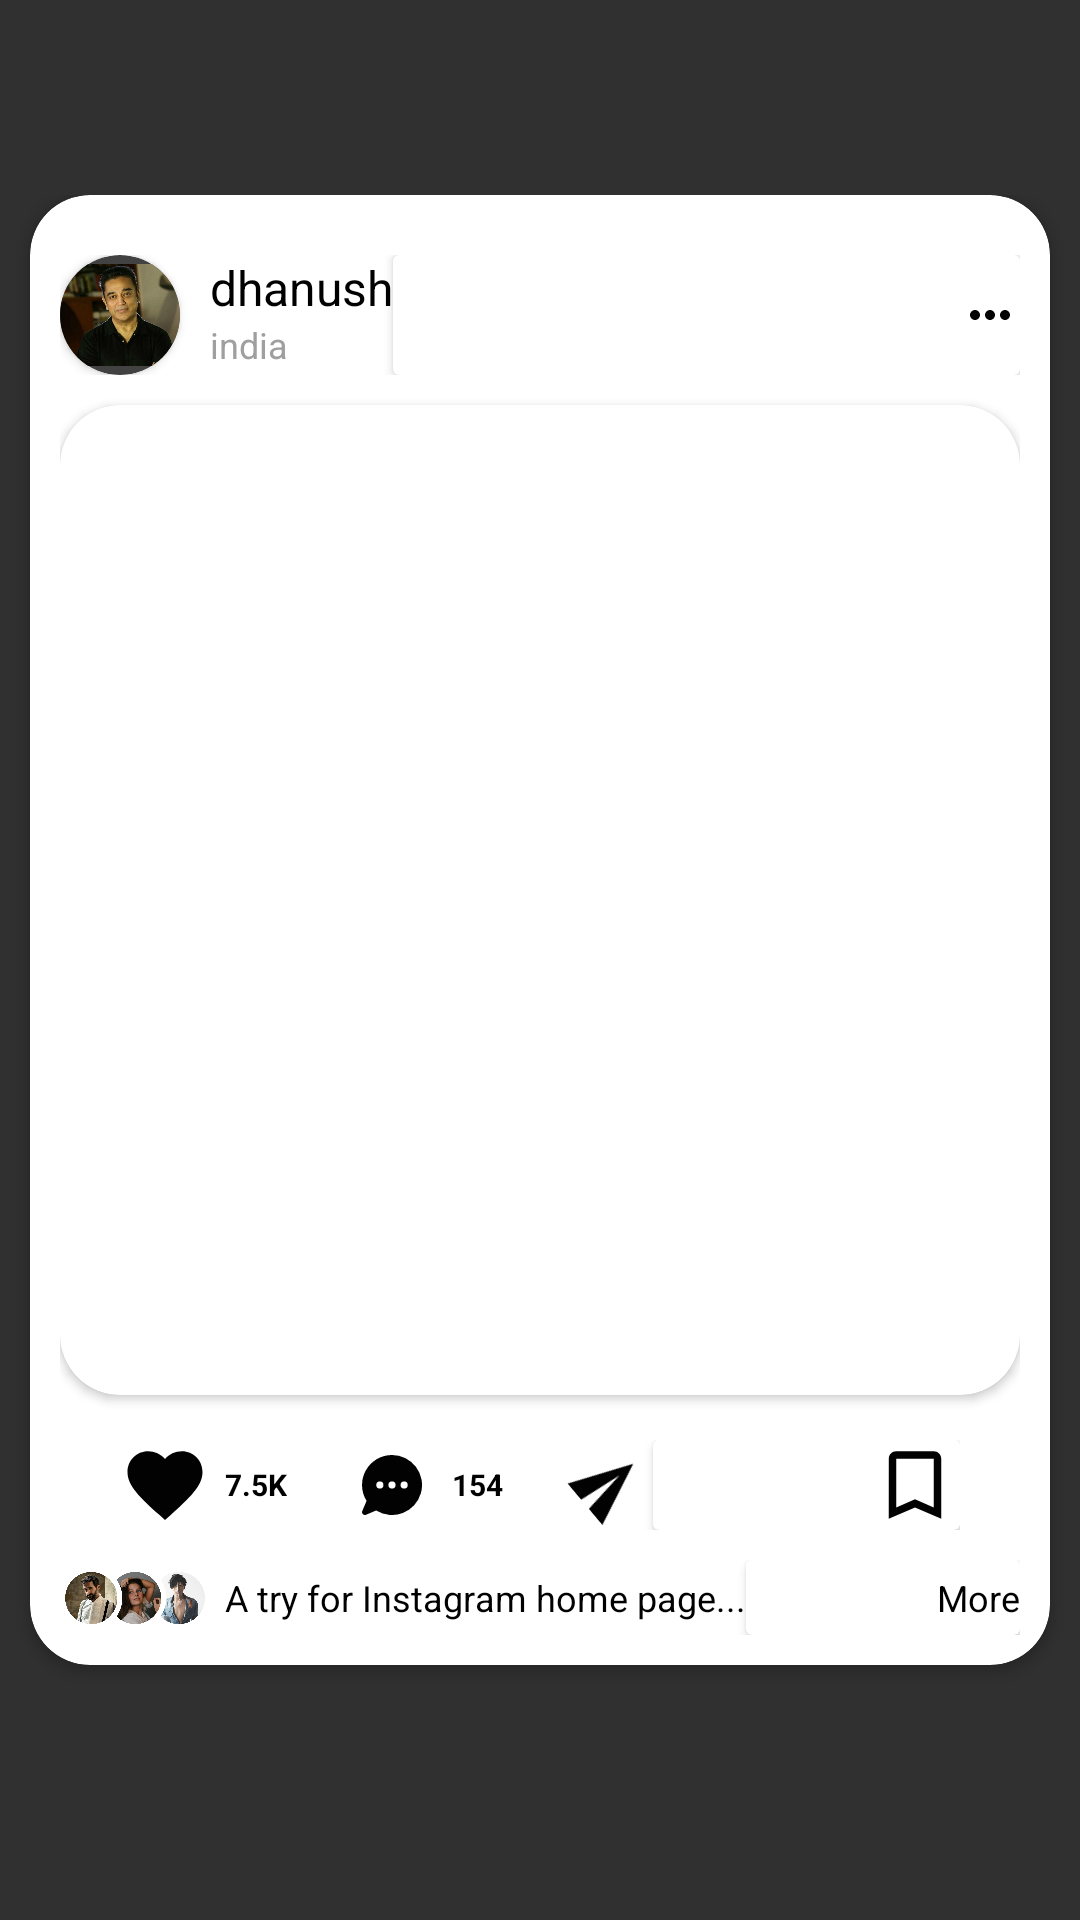

Icons on this 1080px×1920px Android screen, each with the point to tap as [x,y]:
bookmark: [924,1490]
comments: [392,1485]
favorite: [165,1485]
more horiz: [990,315]
profile: [120,315]
